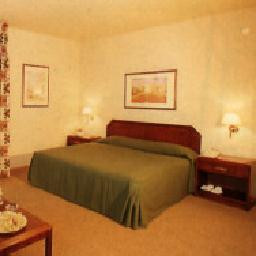Cama: (29, 142, 190, 209)
